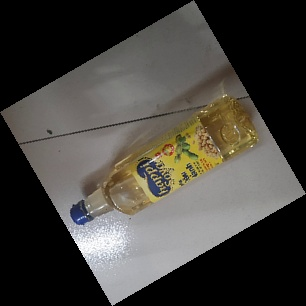Happy Soya: (66, 94, 262, 229)
